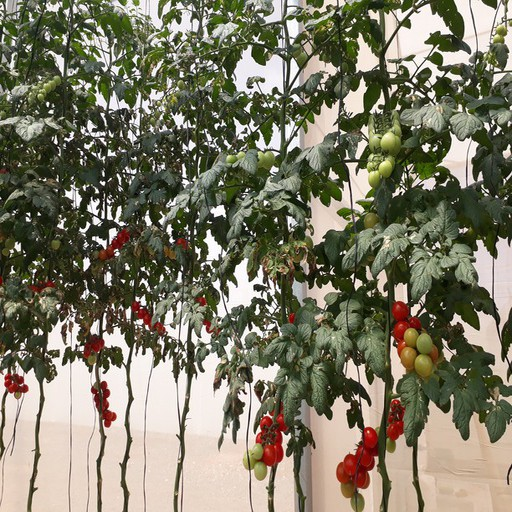green tomato bunch: (369, 107, 401, 187), (481, 19, 510, 73), (226, 147, 275, 177), (24, 72, 60, 106)
mixed tomato bunch: (392, 303, 438, 379)
red tomato bunch: (337, 427, 378, 491), (257, 399, 289, 464), (193, 294, 225, 341), (97, 222, 134, 260), (133, 300, 168, 336), (92, 381, 118, 428), (385, 400, 408, 446), (3, 373, 29, 398), (28, 276, 57, 297)
